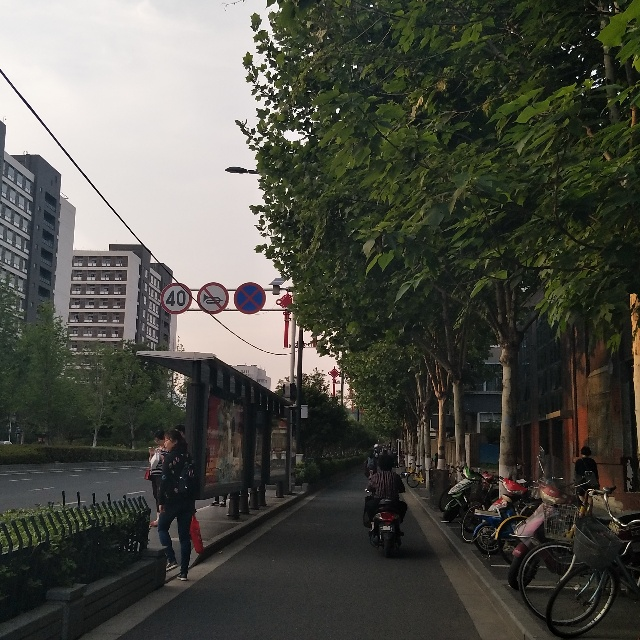nohonk: (197, 282, 229, 314)
stop: (234, 282, 266, 314)
